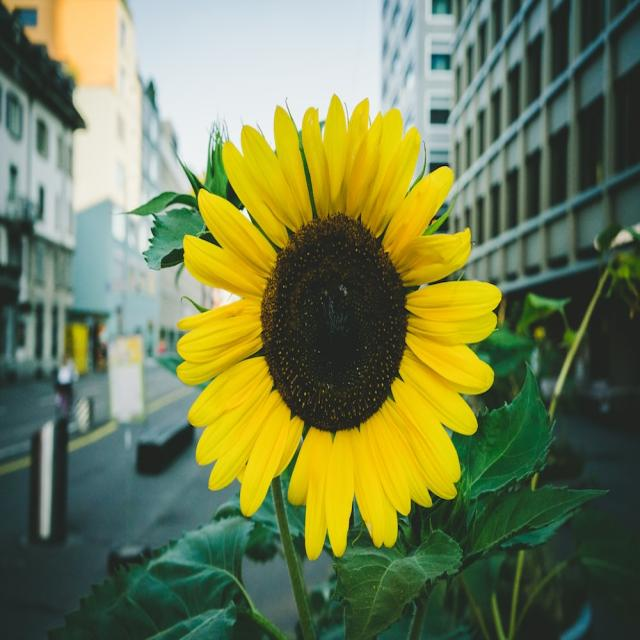sunflower: (168, 81, 507, 566)
